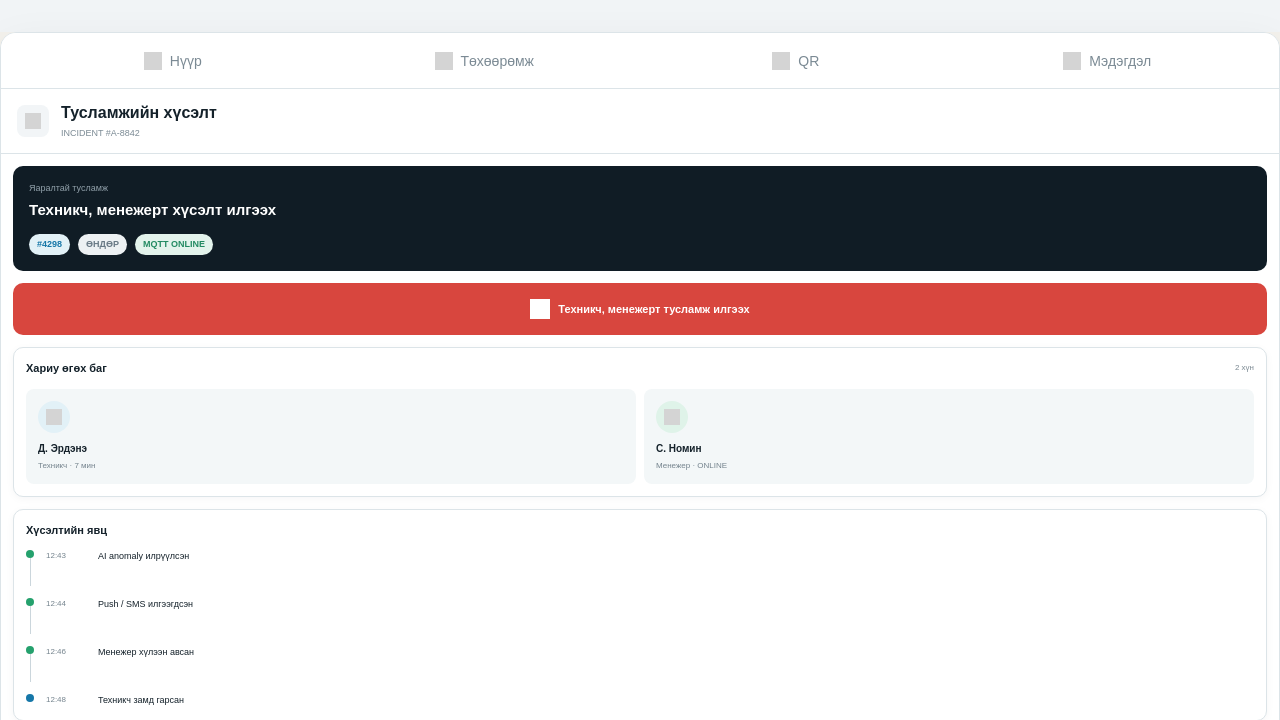
Test case: MobileOpsApp screens › shows a clear message when sending a support request fails
Click the button "Техникч, менежерт тусламж илгээх".
click(640, 309)  # box top-left (13, 283), bottom-right (1267, 335)
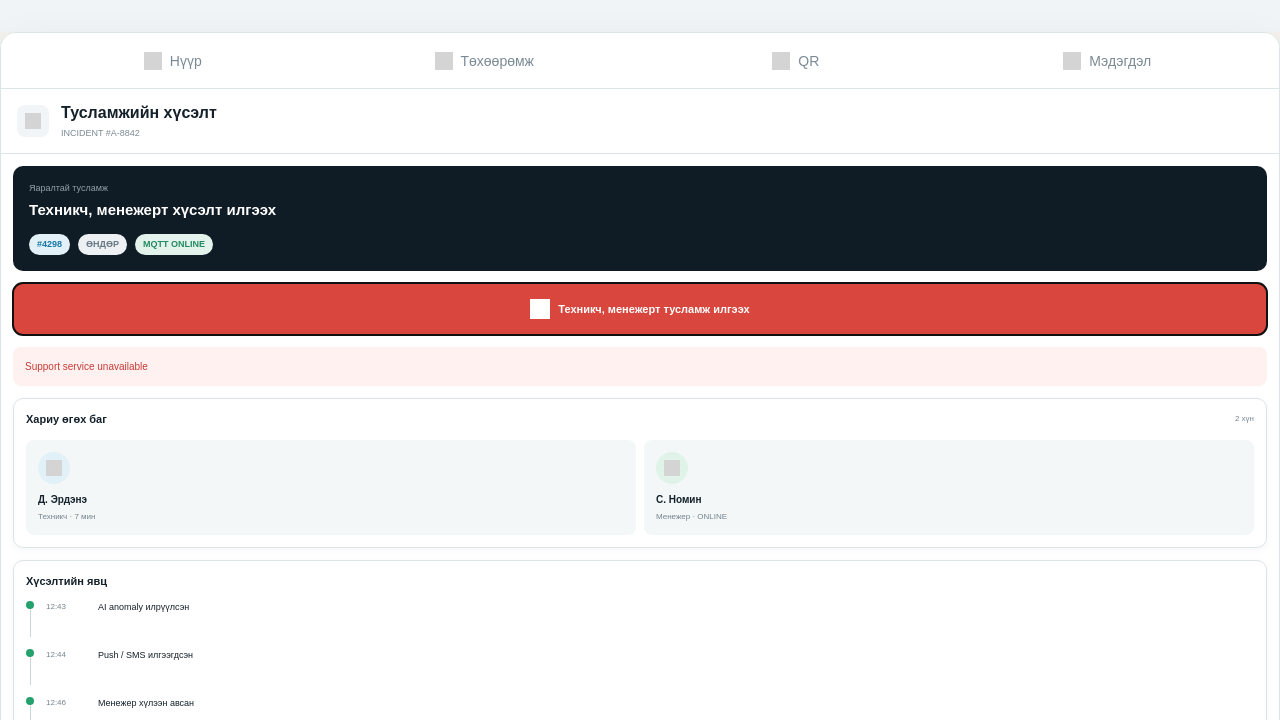
expect the text "Support service unavailable" is shown: met, box top-left (13, 347), bottom-right (1267, 386)
